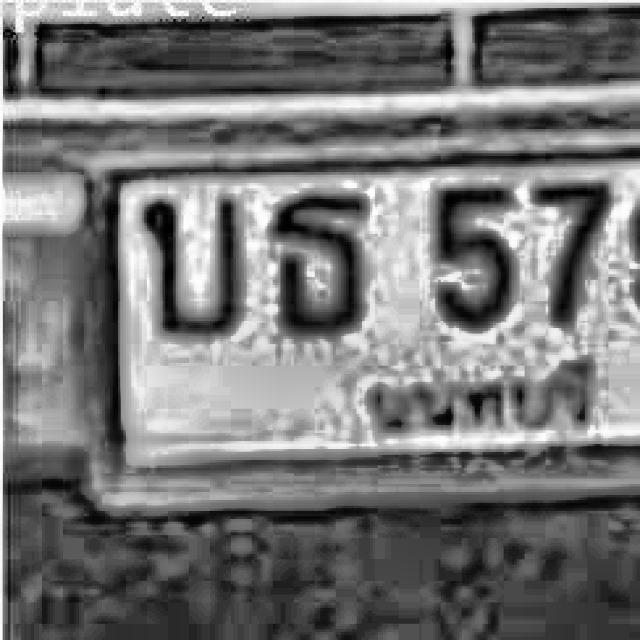license-plate: (44, 138, 640, 518)
